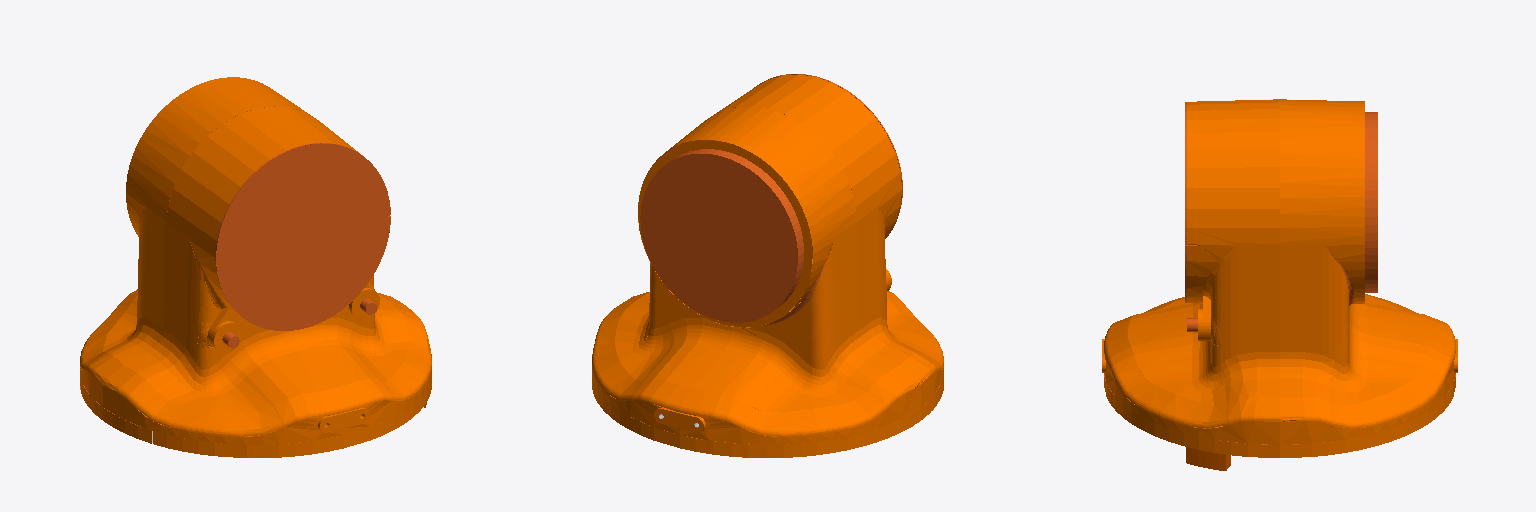
The picture shows the model from 3 angles: view 1: azimuth 30°, elevation 25°; view 2: azimuth 150°, elevation 25°; view 3: azimuth 270°, elevation 25°; orthographic projection.
Visible parts, largest first — view 1: NONE_DC_Shell; view 2: NONE_DC_Shell; view 3: NONE_DC_Shell.
Boxes of the visible parts, <box> form: NONE_DC_Shell: <box>80,77,431,457</box>; NONE_DC_Shell: <box>592,74,943,457</box>; NONE_DC_Shell: <box>1102,99,1457,470</box>.
Size of the model in its own units: 215 by 198 by 217.